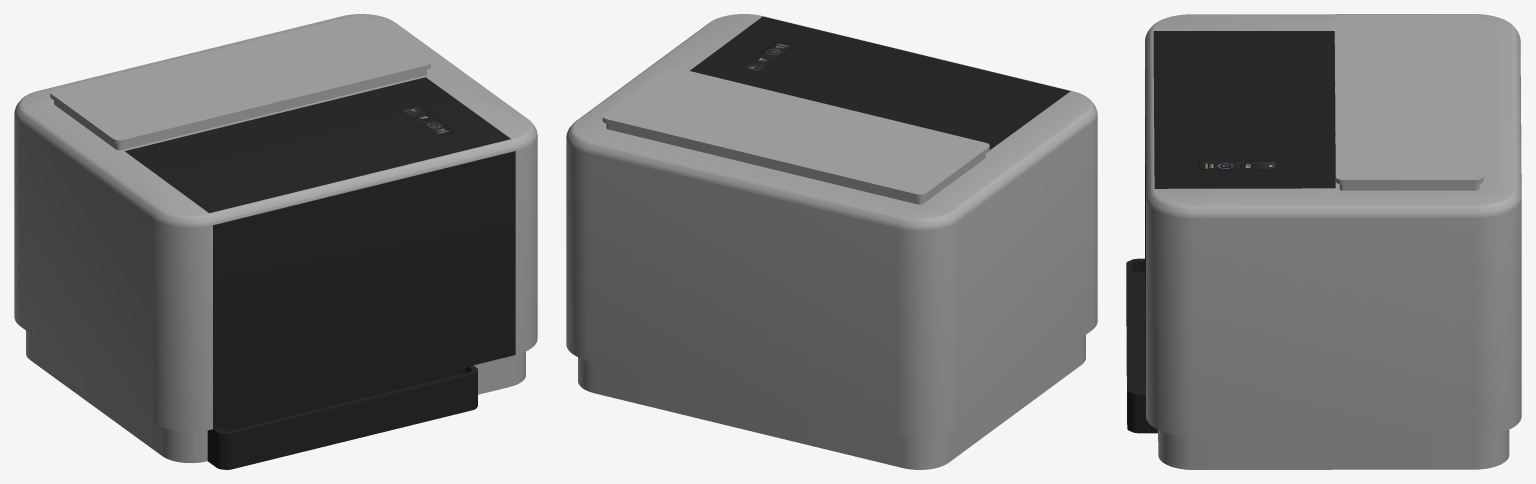
File: Printer.FBX
The picture shows the model from 3 angles, left to right: view 1: azimuth 30°, elevation 25°; view 2: azimuth 150°, elevation 25°; view 3: azimuth 270°, elevation 25°; orthographic projection. The views are drawn at different scales.
Visible parts, largest first — view 1: Printer; view 2: Printer; view 3: Printer.
Boxes of the visible parts, x1,y1,x2,y2 form: Printer: (14,14,537,469); Printer: (566,14,1097,469); Printer: (1126,14,1521,469).
Bounding box in the file's own units: 38.47 × 25.21 × 32.42.
Materials: 1 (1 with a texture image).
